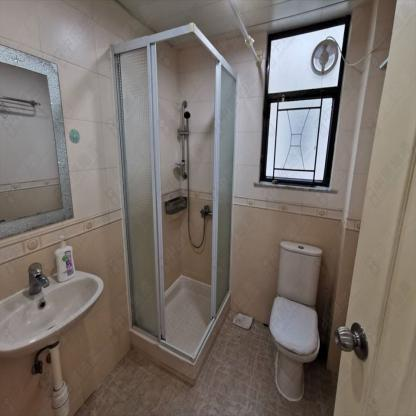Exhaust Fan: (310, 38, 338, 74)
Faucet: (25, 258, 50, 294)
Toilet: (267, 240, 324, 399)
Toilet Sink: (0, 269, 104, 357)
Water Cubicle: (112, 22, 238, 363)
